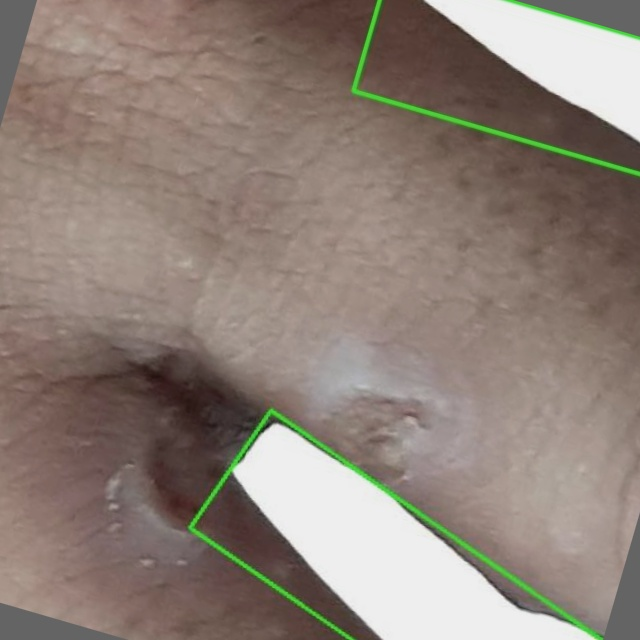Scabies: (190, 411, 601, 639), (352, 0, 639, 175)
